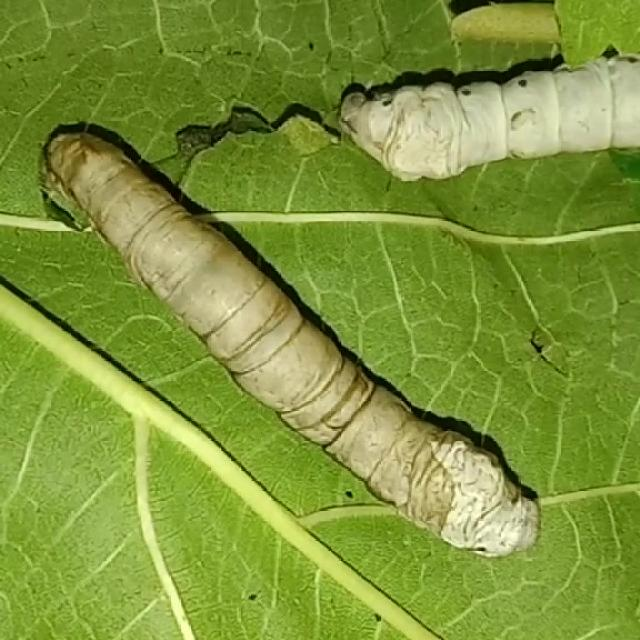Grasserie: (14, 113, 559, 606)
